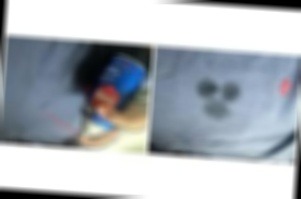oil: (186, 74, 244, 123)
